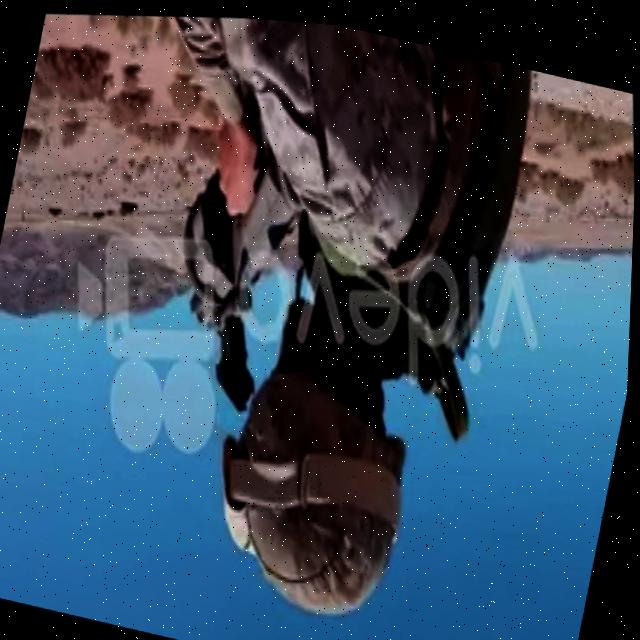rocket: (133, 116, 358, 429)
